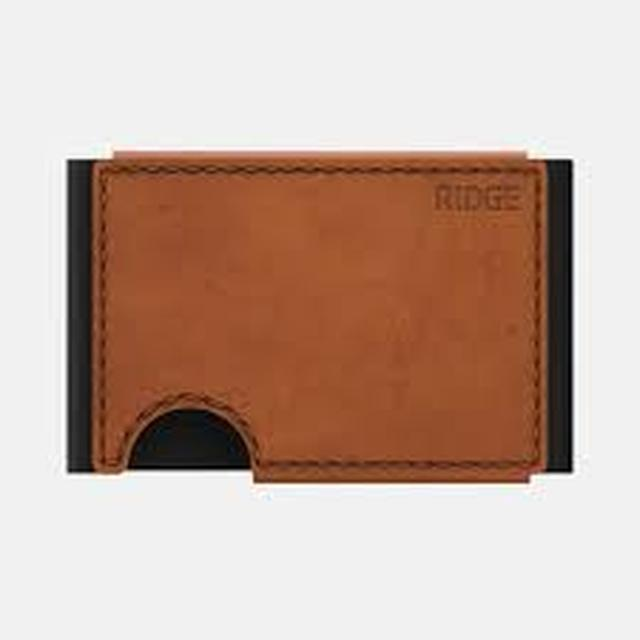card: (51, 144, 575, 493)
